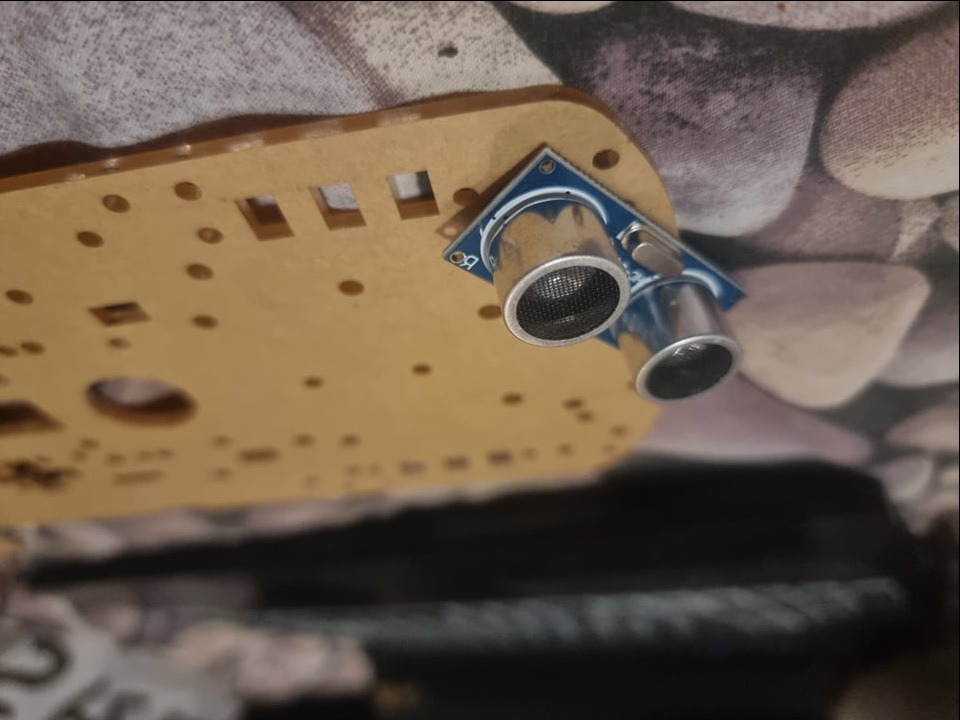SENSOR: (442, 141, 751, 401)
